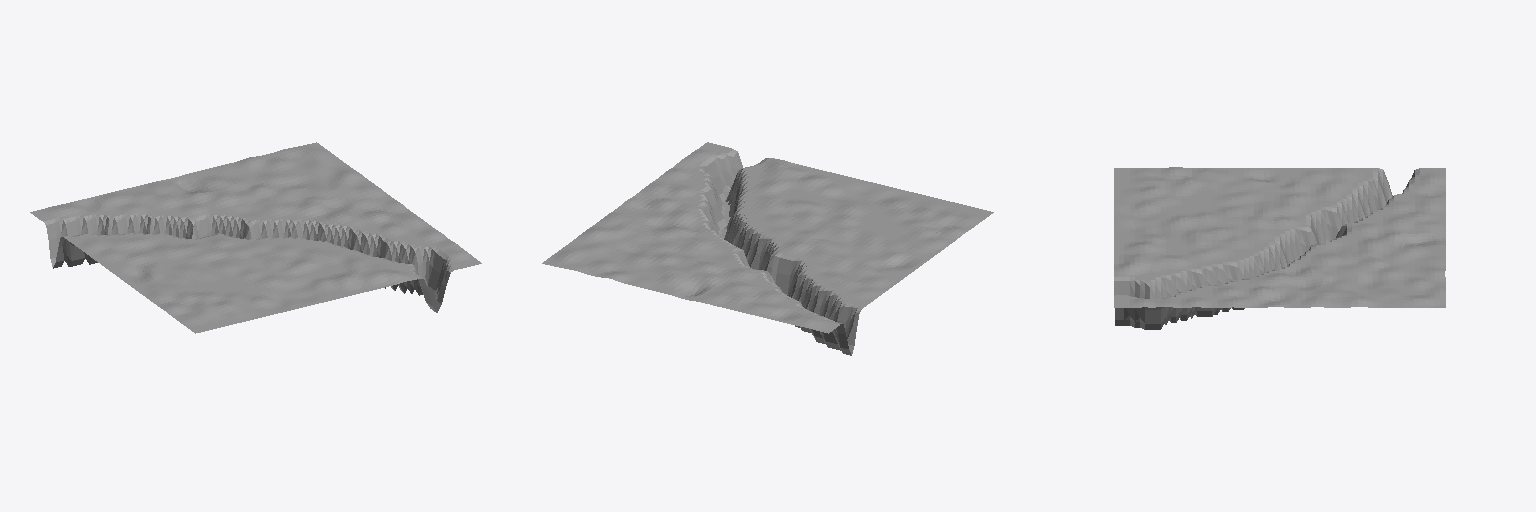
The model's file is mapGround.obj.
The picture shows the model from 3 angles: view 1: azimuth 30°, elevation 25°; view 2: azimuth 150°, elevation 25°; view 3: azimuth 270°, elevation 25°; orthographic projection.
Parts seen in each view (by area): view 1: Cube; view 2: Cube; view 3: Cube.
Part boxes in pixels (x1,y1,x2,y2): Cube: (30,142,481,333); Cube: (542,142,993,355); Cube: (1114,167,1445,329).
Size of the model in its own units: 30.03 by 4.25 by 30.03.